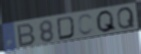8: (38, 19, 55, 43)
B: (16, 22, 37, 48)
C: (77, 13, 96, 36)
D: (56, 15, 76, 41)
Q: (95, 9, 118, 34), (116, 6, 136, 31)
